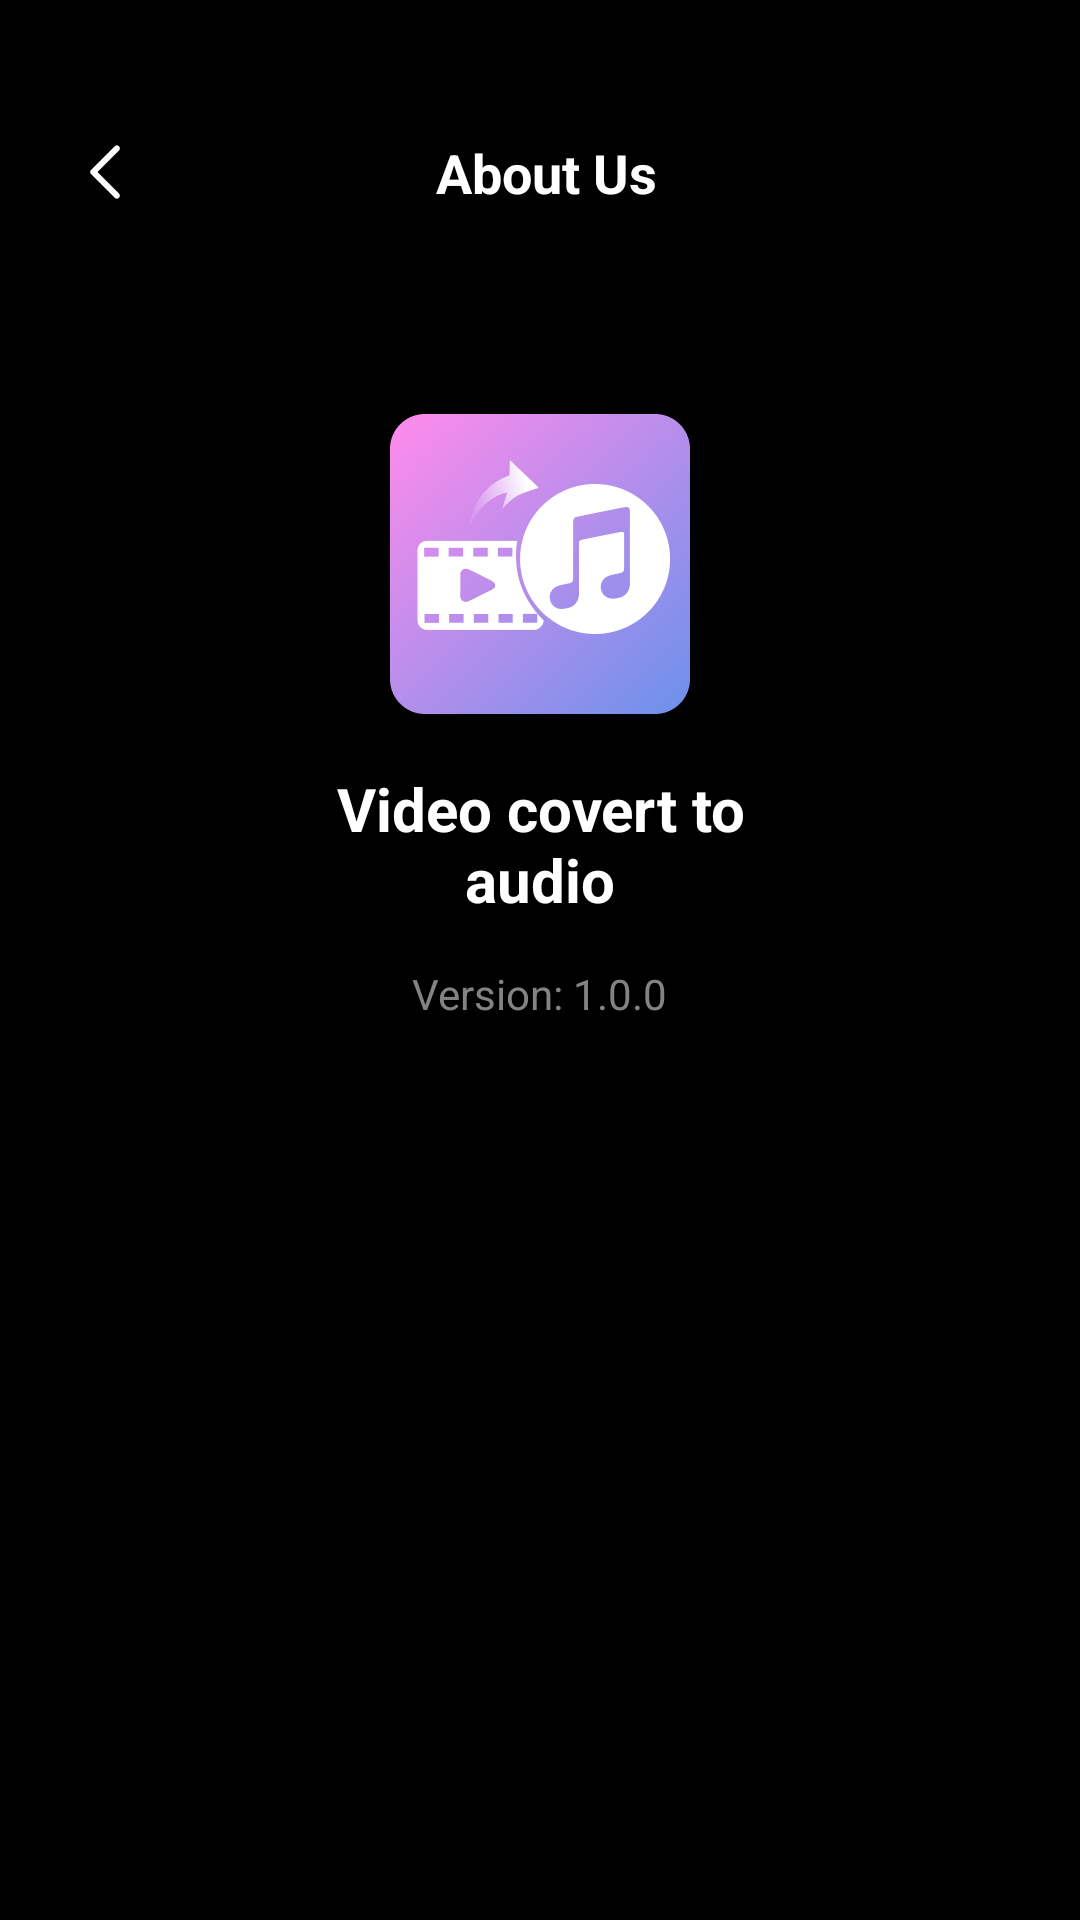

Icon click points for this 1080 × 1920 phone screenshot, format (x=x, y=y):
back: (x=105, y=172)
